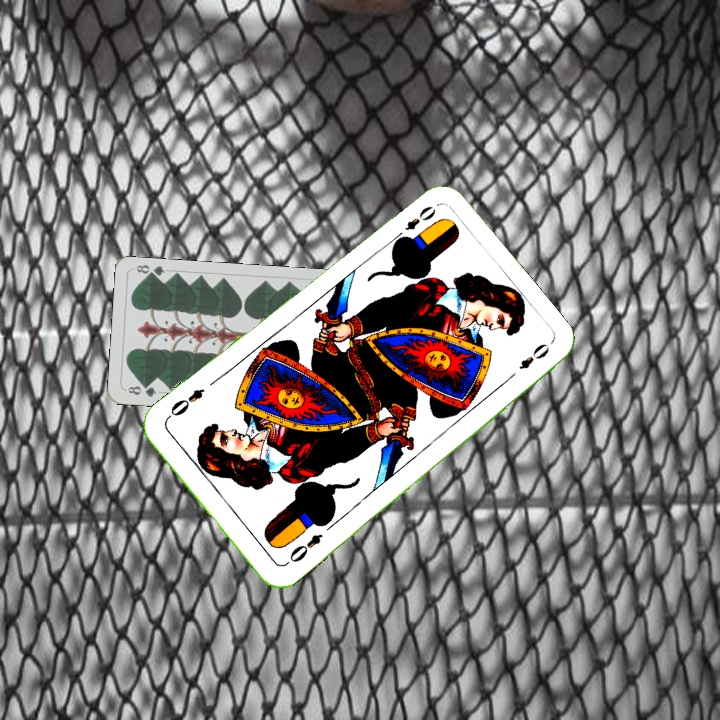EO: (390, 201, 439, 244), (281, 529, 326, 568)
G8: (124, 381, 159, 400)
